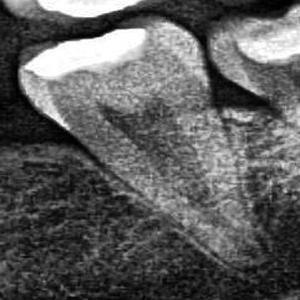tooth: (14, 22, 256, 254), (208, 2, 300, 127)
